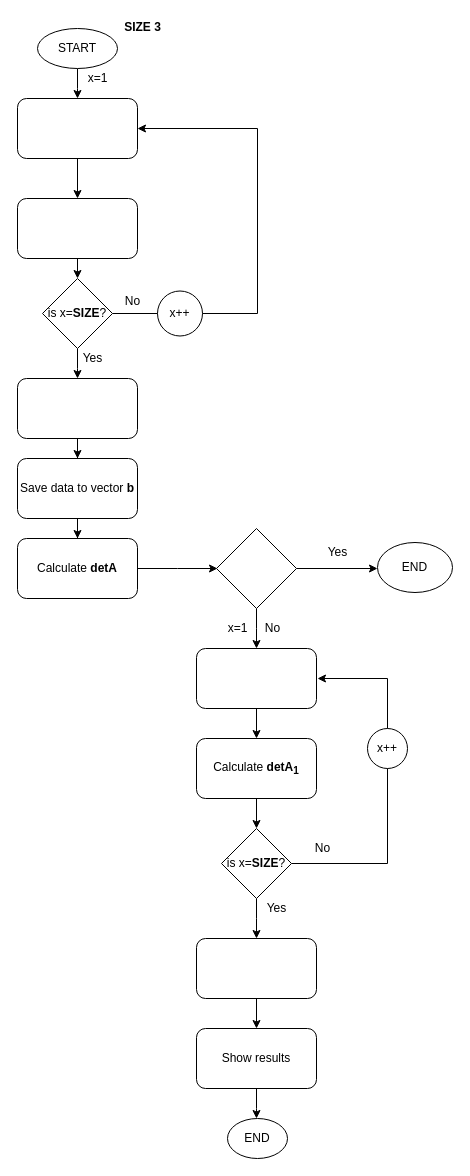
The diagram is 470 pixels wide and 1176 high, and some of its shapes have lost their labels. Each missing label, with the centre of its shape:
Calculate x 's: the point at 256,968
detA=0 ?: the point at 256,568
Read next line: the point at 77,408
Read x line: the point at 77,128
Replace x column in matrix A with vector b: the point at 256,678
Save data to matrix A: the point at 77,228
